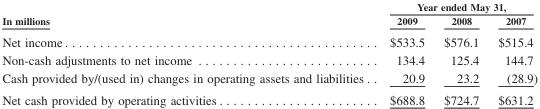table: (1, 0, 536, 106)
table column: (1, 0, 379, 106), (433, 0, 488, 106), (379, 0, 433, 106), (488, 0, 536, 106)
table column header: (1, 0, 536, 30)
table row: (1, 30, 536, 50), (1, 68, 536, 88), (1, 50, 536, 68), (1, 88, 536, 106), (1, 13, 536, 30), (1, 0, 536, 13)
table spanning cell: (1, 0, 379, 30), (379, 0, 536, 13)
